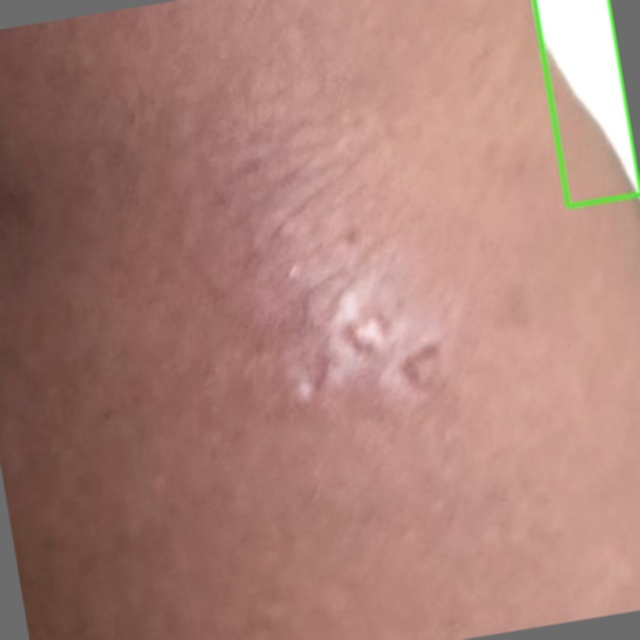Scabies: (534, 0, 639, 206)
